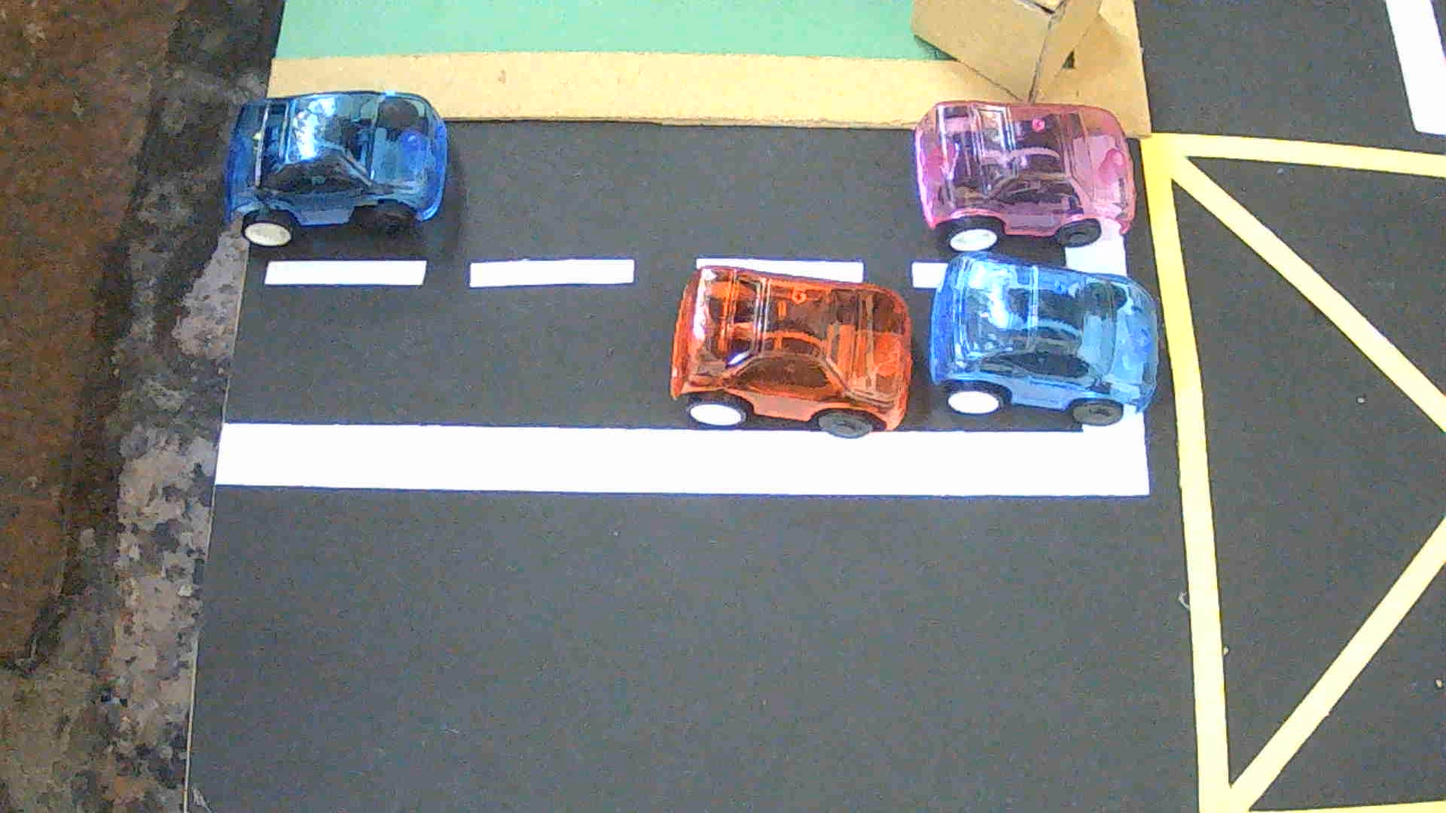Mobil biru: (929, 252, 1158, 425), (226, 91, 447, 245)
Mobil merah: (670, 266, 911, 437)
Mobil ungu: (915, 102, 1135, 250)
